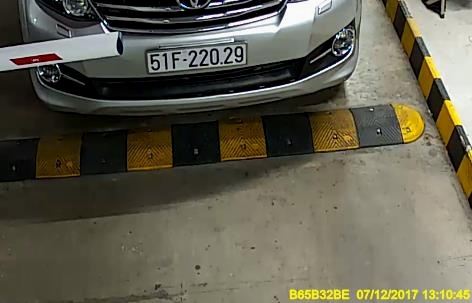plate: (145, 42, 249, 73)
